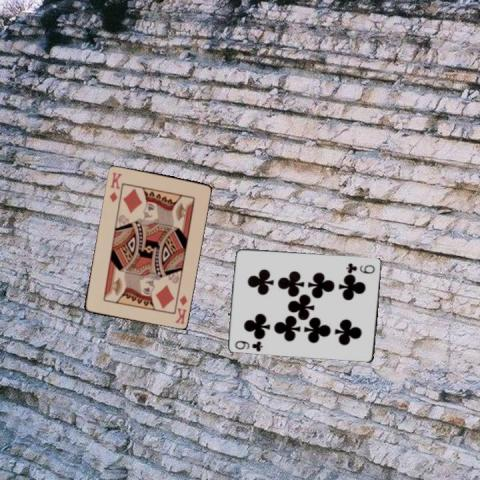9c: (232, 337, 264, 353), (343, 260, 377, 273)
Kd: (172, 292, 189, 325), (107, 170, 123, 204)
